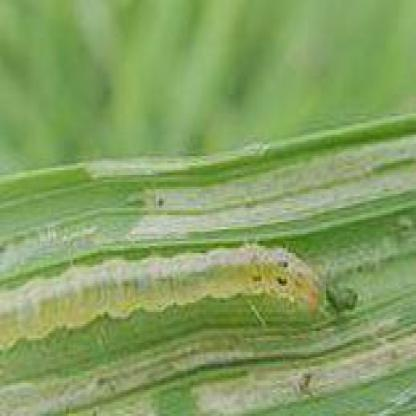leaf-folder: (2, 235, 358, 352)
